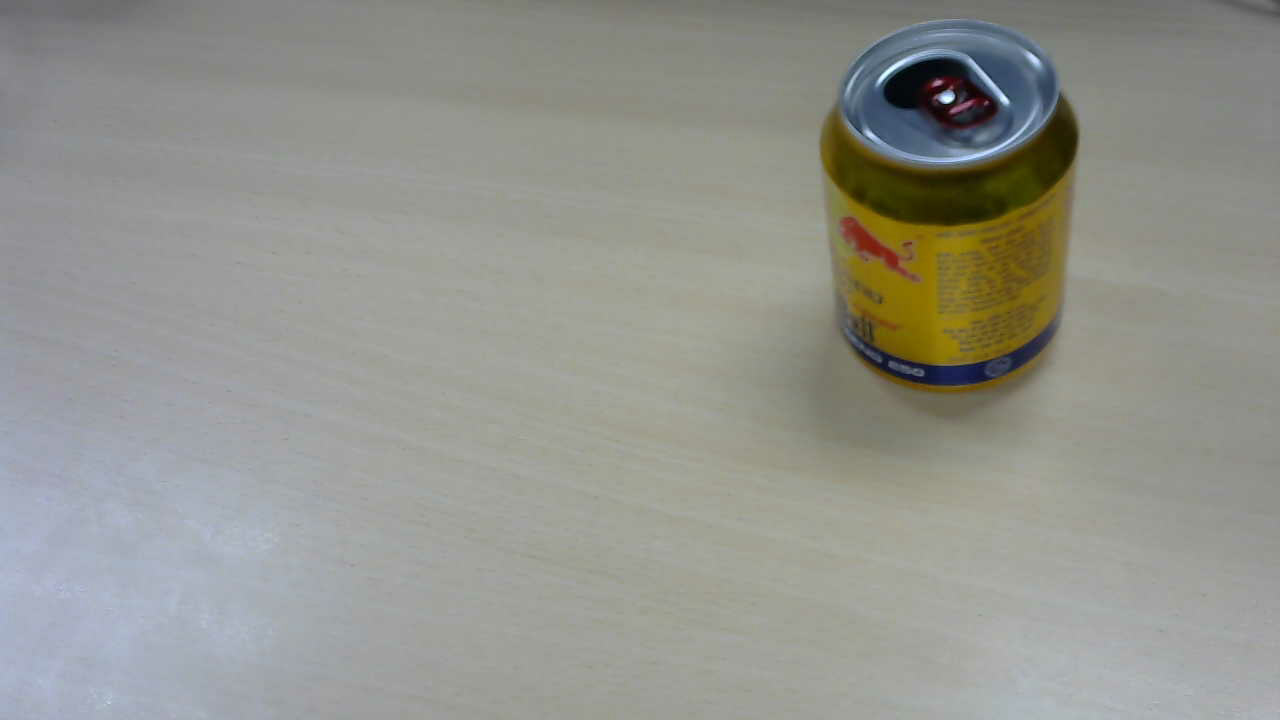Red_Bull: (828, 26, 1091, 396)
